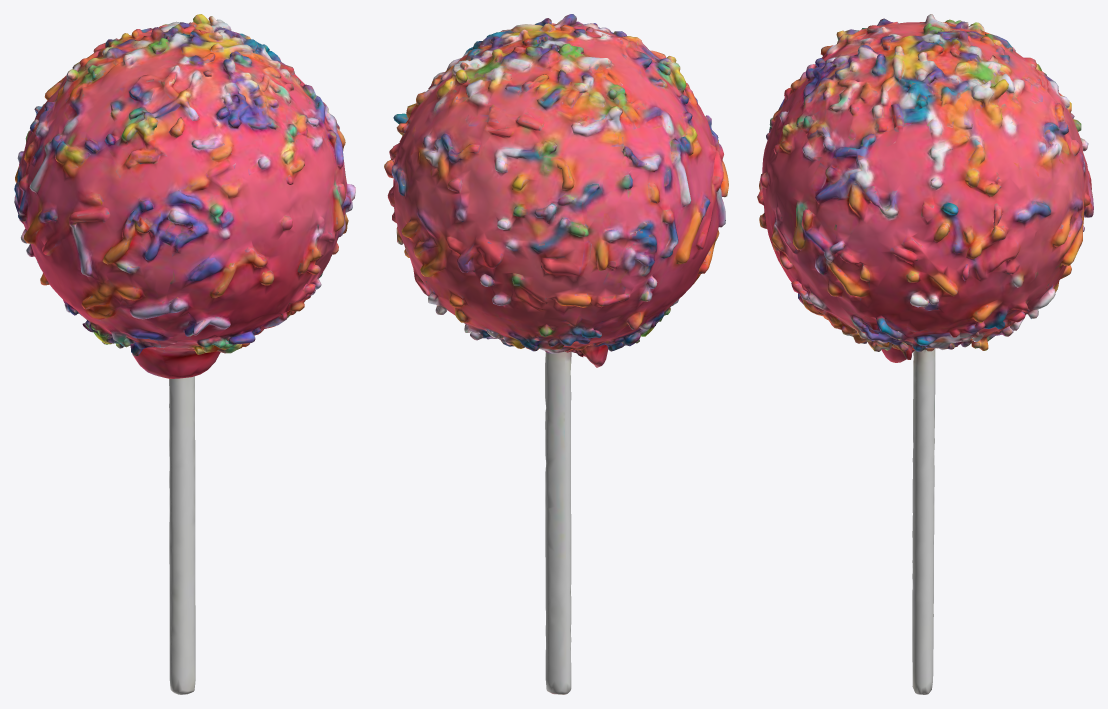
3 renders of one model, left to right at view 1: azimuth 30°, elevation 25°; view 2: azimuth 150°, elevation 25°; view 3: azimuth 270°, elevation 25°, orthographic.
Bounding box in the file's own units: 0.9314 × 1.99 × 0.9236.
Materials: 1 (1 with a texture image).
